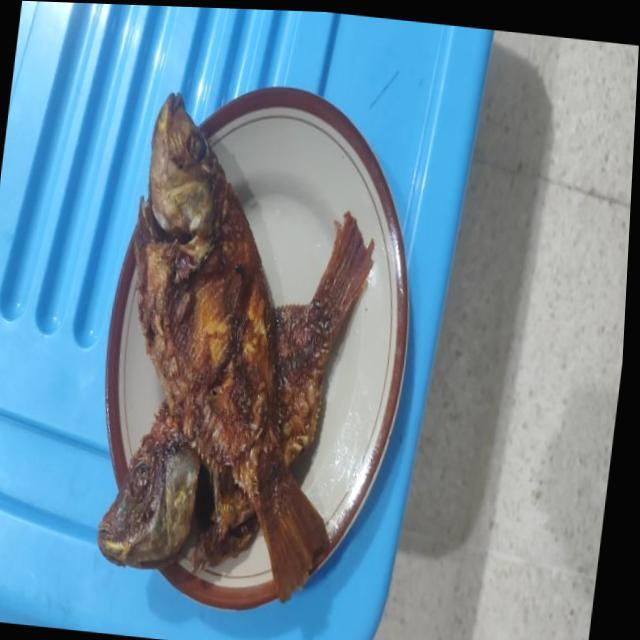ikan_mujair: (96, 212, 376, 569), (135, 93, 326, 600)
